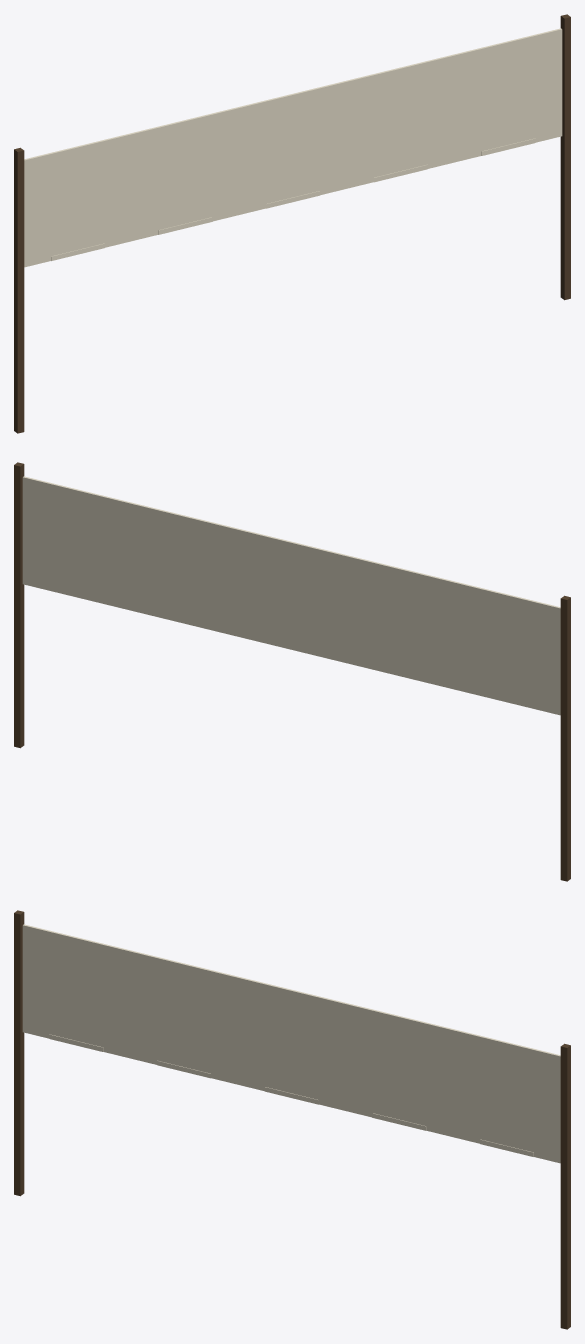
The model's file is lwf_stage_set_punk_v1.glb.
3 renders of one model, top to bottom at view 1: azimuth 30°, elevation 25°; view 2: azimuth 150°, elevation 25°; view 3: azimuth 330°, elevation 25°, orthographic.
Parts seen in each view (by area): view 1: Banner, Props; view 2: Banner, Props; view 3: Banner, Props.
Boxes of the visible parts, x1,y1,x2,y2 form: Banner: [24, 28, 562, 267]; Props: [14, 14, 570, 433]; Banner: [22, 476, 560, 715]; Props: [14, 462, 570, 881]; Banner: [22, 924, 560, 1163]; Props: [14, 910, 570, 1329].
Size of the model in its own units: 5.14 by 2.5 by 0.06.
Materials: 1 (1 with a texture image).
